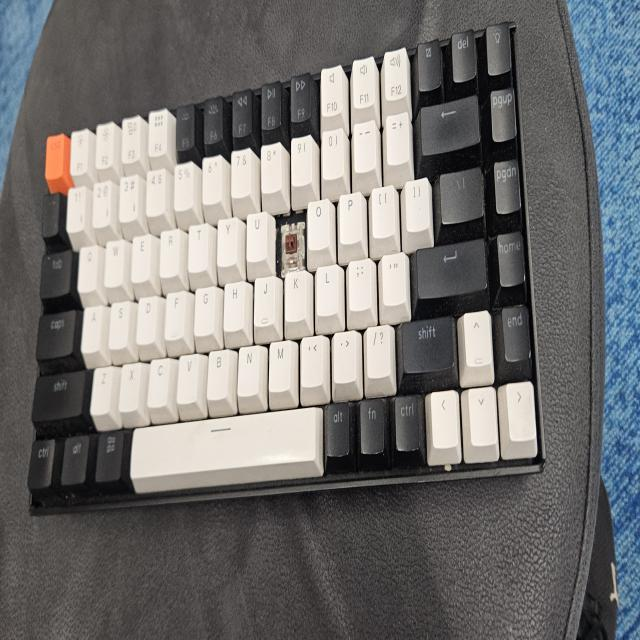C: (281, 216, 300, 266)
